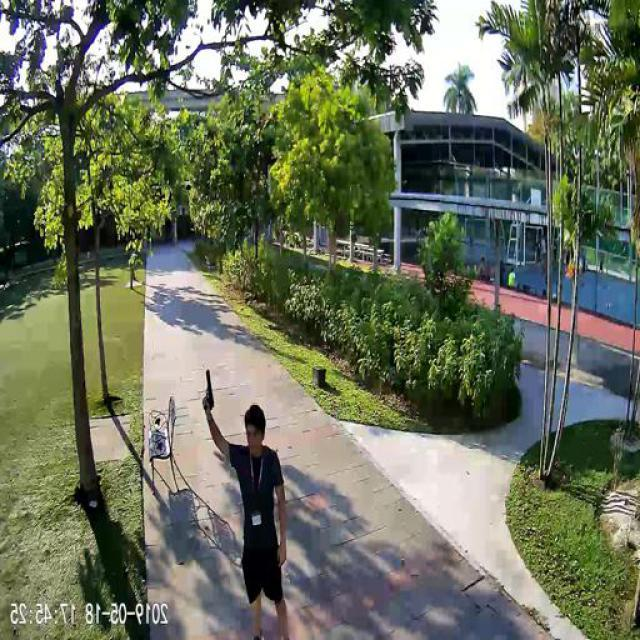Gun: (204, 366, 216, 410)
